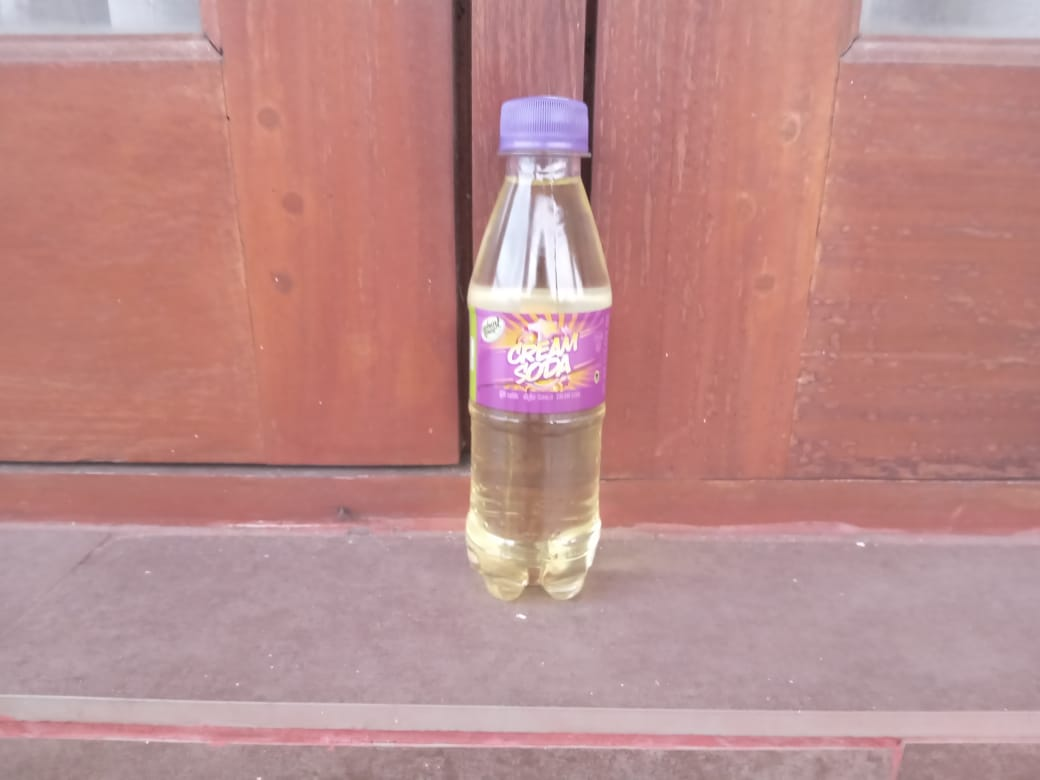Xs: (446, 88, 613, 626)
